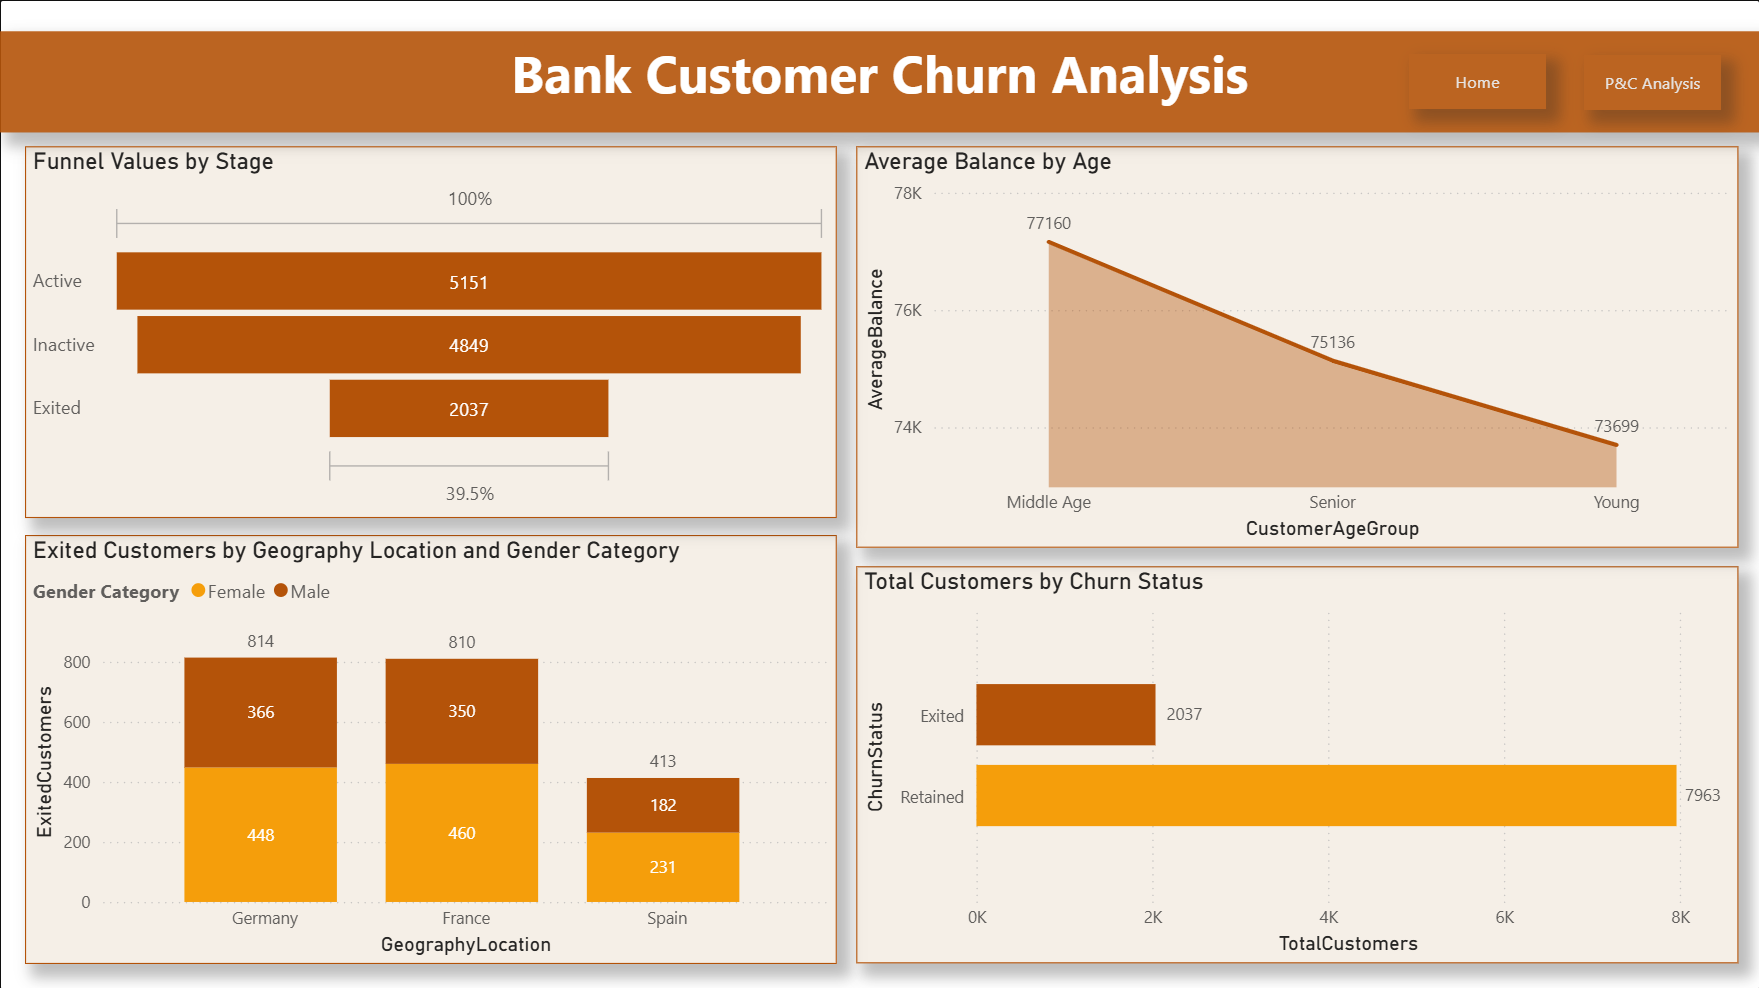

This screenshot's page, from the dashboard's own definition file:
{"tool":"powerbi","page":{"name":"Churn Analysis","canvas":[1280,720],"ordinal":1},"visuals":[{"type":"textbox","box":[0,23.1,1279.7,73.6],"z":0},{"type":"actionButton","box":[1024.7,39.1,100.3,40.4],"z":1000},{"type":"columnChart","title":"Exited Customers by Geography Location and Gender Category","fields":{"Category":["Geography.GeographyLocation"],"Series":["Gender.GenderCategory"],"Y":["Bank_Churn.ExitedCustomers"]},"box":[18.3,388.9,590.6,311.8],"z":2000},{"type":"clusteredBarChart","title":"Total Customers by Churn Status","fields":{"Category":["Bank_Churn.ChurnStatus"],"Y":["Bank_Churn.TotalCustomers"]},"box":[622.4,412.1,642,288.6],"z":3000},{"type":"funnel","title":"Funnel Values by Stage","fields":{"Category":["FunnelStage.Stage"],"Y":["FunnelStage.FunnelValues"]},"box":[18.3,106.4,590.6,270.2],"z":4000},{"type":"lineChart","title":"Average Balance by Age","fields":{"Y":["Bank_Churn.AverageBalance"],"Category":["Bank_Churn.CustomerAgeGroup"]},"box":[622.4,106.4,642,292.3],"z":5000},{"type":"actionButton","box":[1151.9,40.4,100.3,40.4],"z":6000}]}

Visuals, with their boxes in screenshot pixels (x1, y1, x2, y2), scaled from the page's 1280x720 canvas onto the 1759x988 screenshot:
textbox: box=[0, 32, 1758, 133]
actionButton: box=[1408, 54, 1546, 109]
"Exited Customers by Geography Location and Gender Category" columnChart: box=[25, 534, 837, 962]
"Total Customers by Churn Status" clusteredBarChart: box=[855, 565, 1738, 962]
"Funnel Values by Stage" funnel: box=[25, 146, 837, 517]
"Average Balance by Age" lineChart: box=[855, 146, 1738, 547]
actionButton: box=[1583, 55, 1721, 111]
